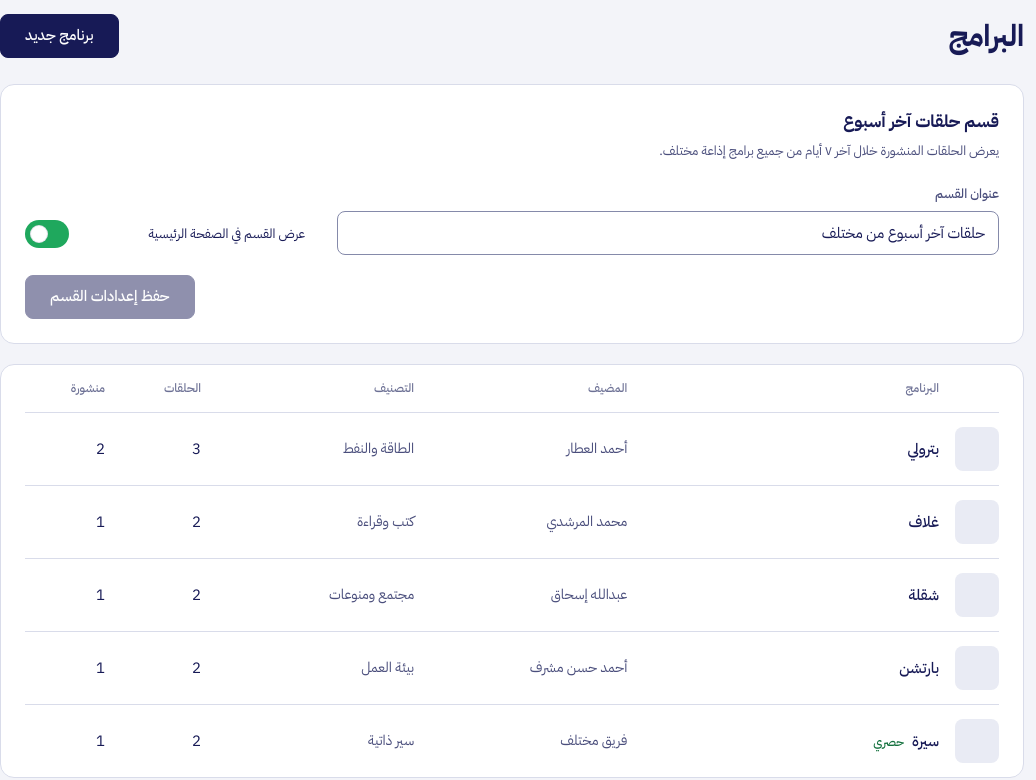
it: page mutation controls › يوضح تعارض النسخة ويطلب المراجعة
Click the switch named "عرض القسم في الصفحة الرئيسية": (47,234) [25, 220, 69, 248]
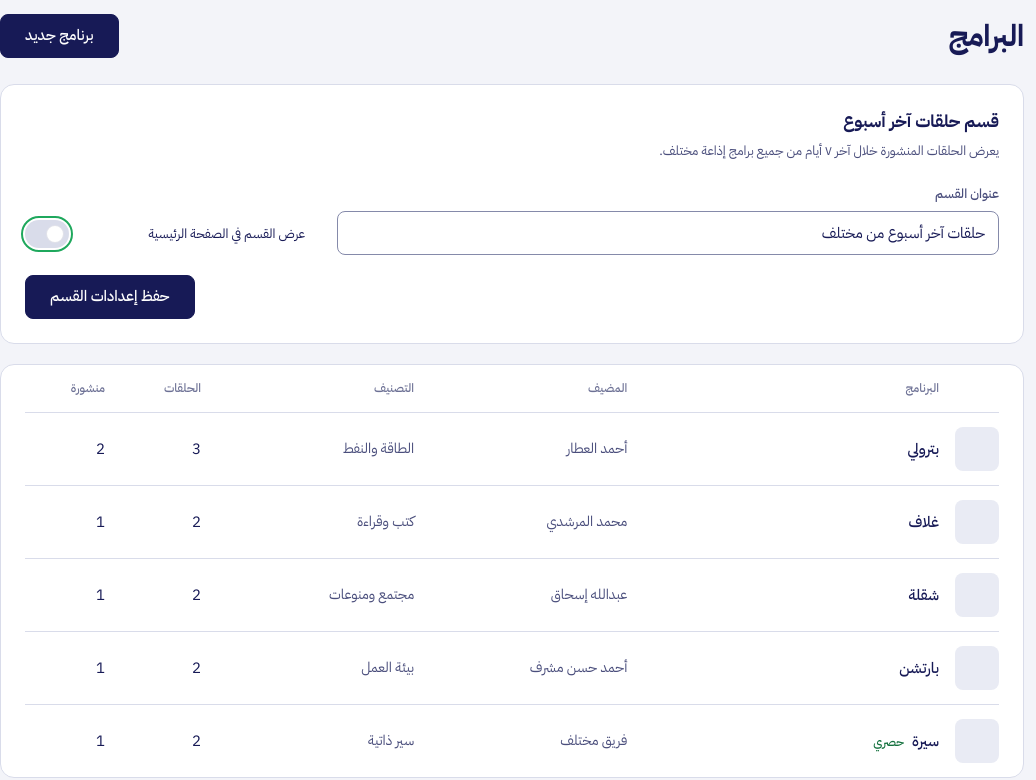
Click the button "حفظ إعدادات القسم": (110,297) [25, 275, 194, 319]
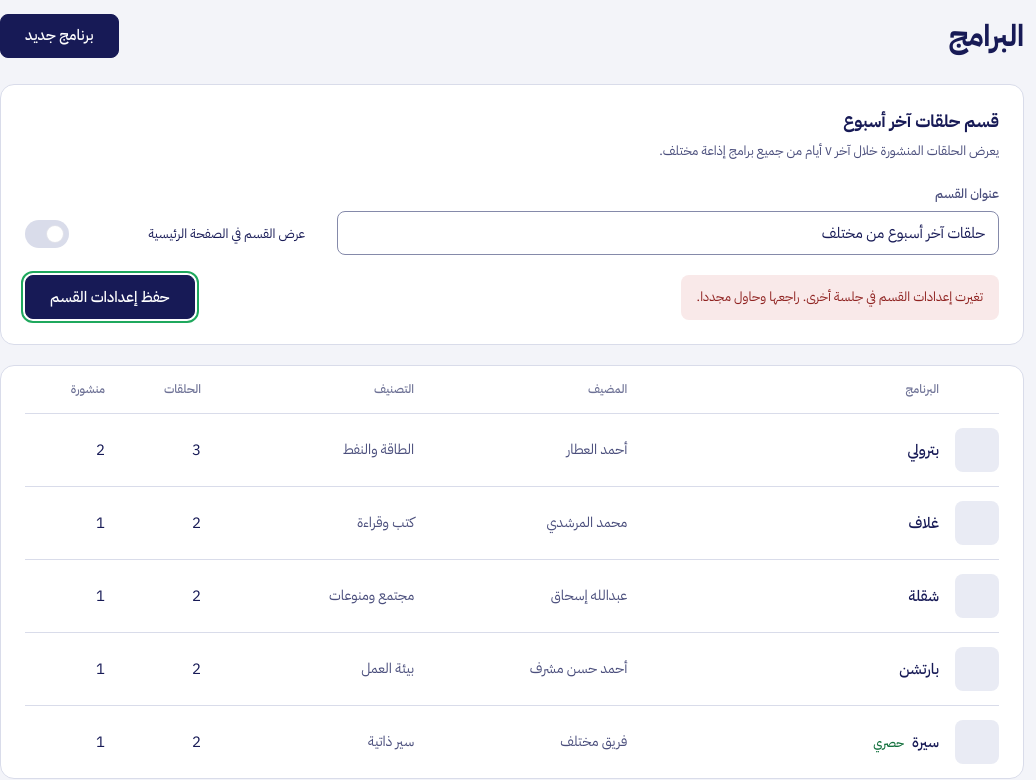
Expected: the message reads "تغيرت إعدادات القسم في جلسة أخرى. راجعها وحاول مجددا.", [697, 287, 983, 306]
